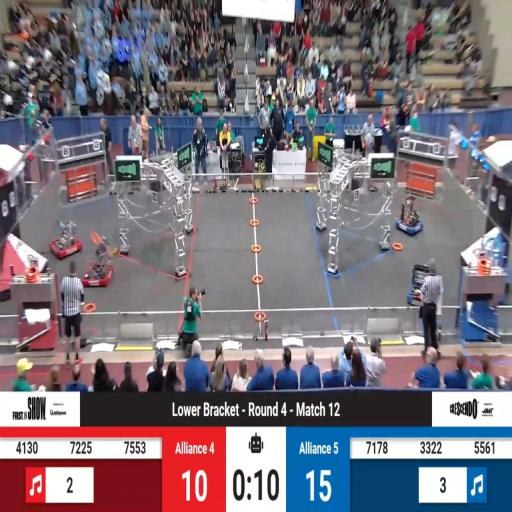robot: (83, 241, 114, 287), (50, 222, 81, 260), (407, 264, 435, 306), (395, 195, 422, 235)
